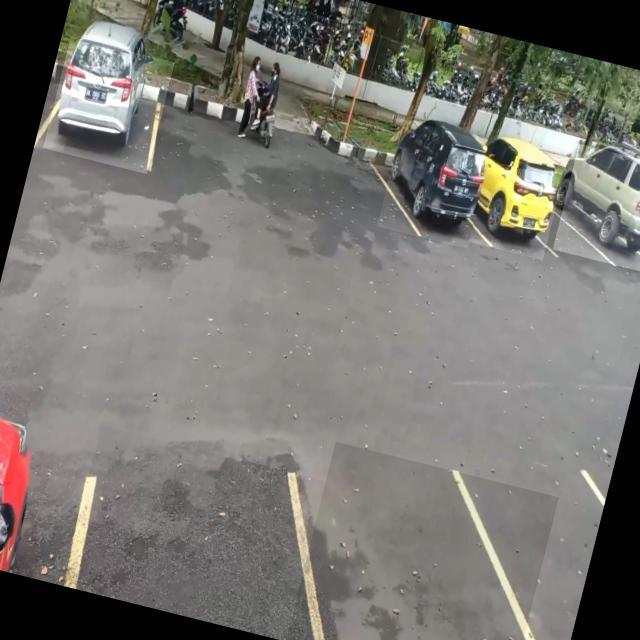empty: (61, 425, 328, 640), (285, 441, 558, 640)
occupied: (42, 36, 174, 174), (376, 120, 494, 248), (551, 143, 640, 275), (469, 160, 563, 260)
